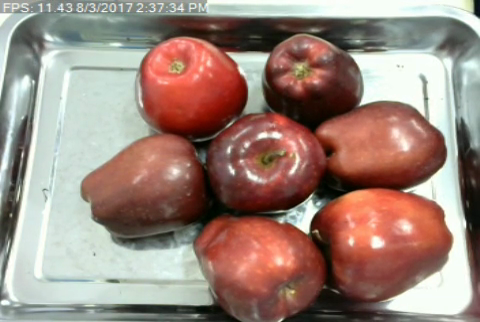Apple: (310, 185, 457, 305), (79, 130, 217, 240), (192, 213, 331, 322), (206, 109, 327, 217), (312, 96, 449, 191), (132, 33, 251, 142), (259, 30, 366, 128)
